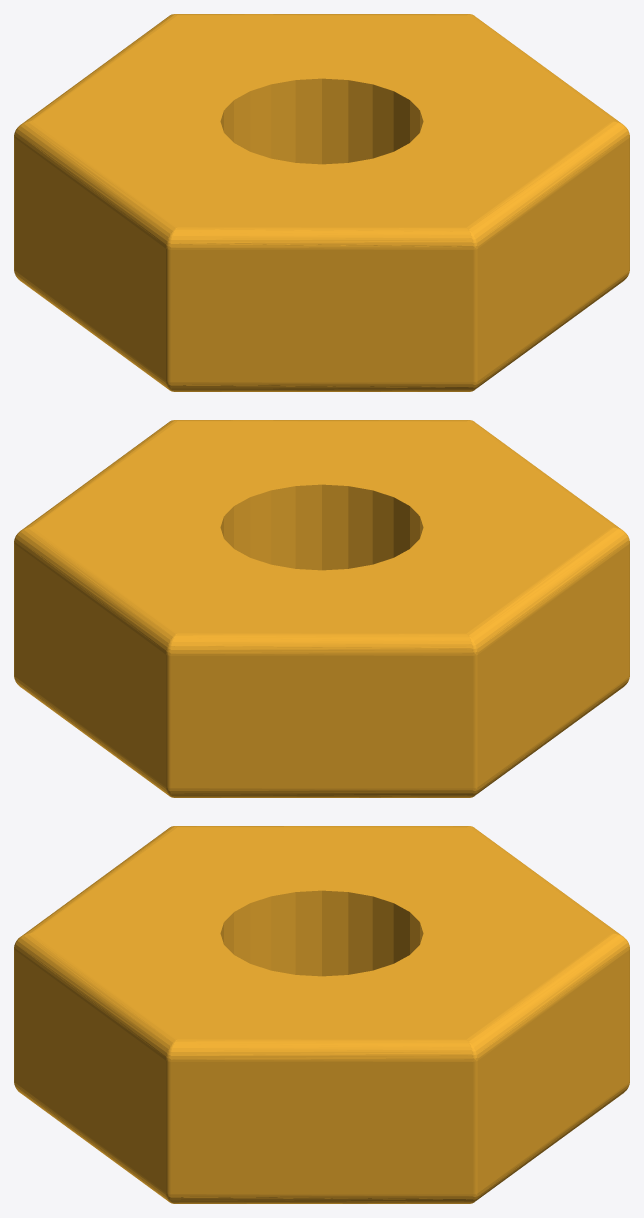
File: kria_kv_260_PC104_SN_XX_XX_7_SOLID1_3_PC104_SN_XX_XX_7_SOLID1_3.obj
The picture shows the model from 3 angles, top to bottom: view 1: azimuth 30°, elevation 25°; view 2: azimuth 150°, elevation 25°; view 3: azimuth 270°, elevation 25°; orthographic projection.
Size of the model in its own units: 0.00476 by 0.0016 by 0.00548.
